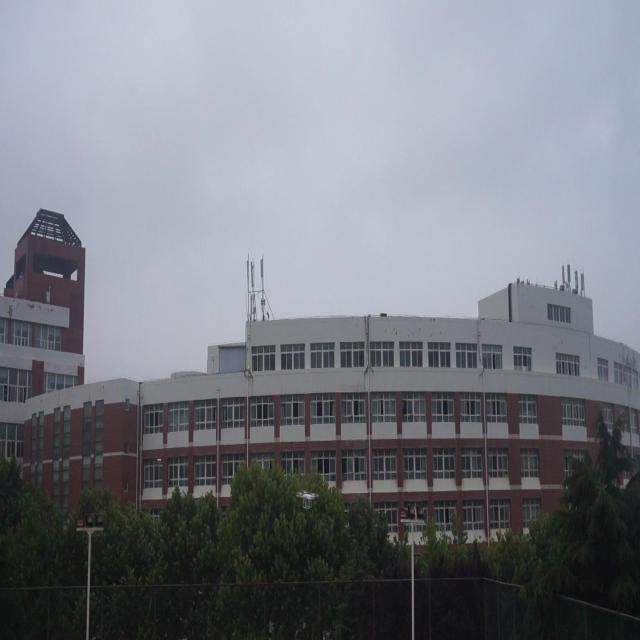UAV: (296, 491, 319, 509)
